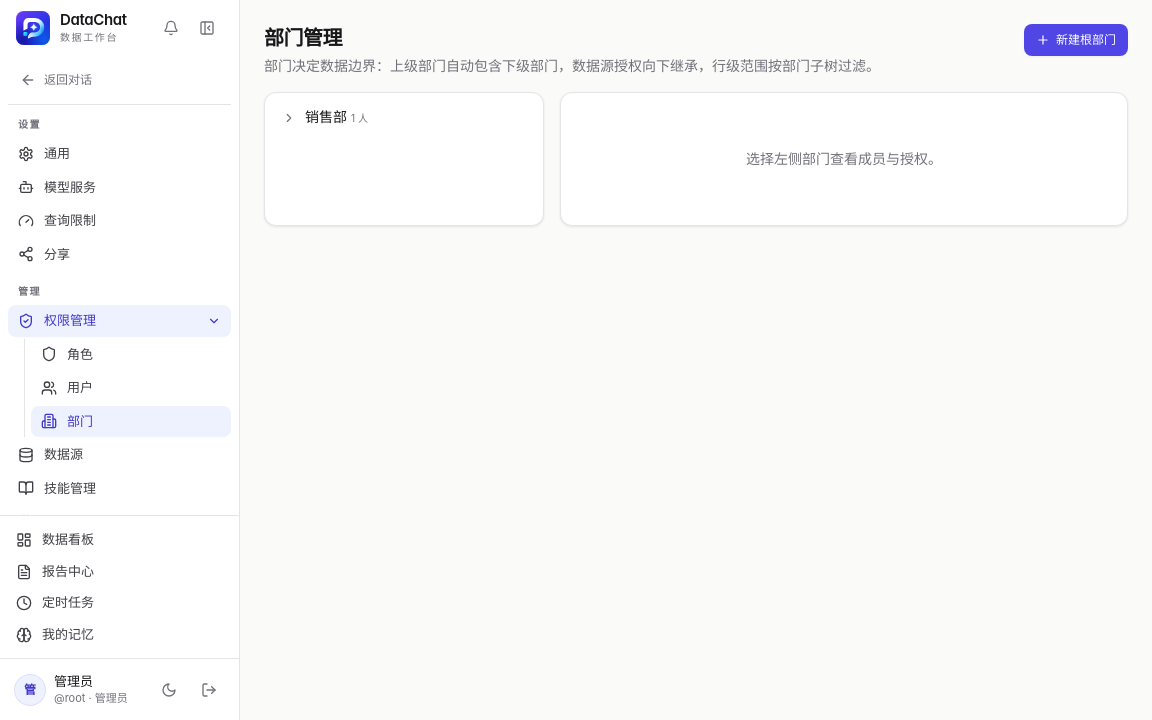
Test: DepartmentsPage › shows members and read-only inherited datasource grants for a department
Click the button "销售部1 人" at (404, 118), box [305,101,503,134]
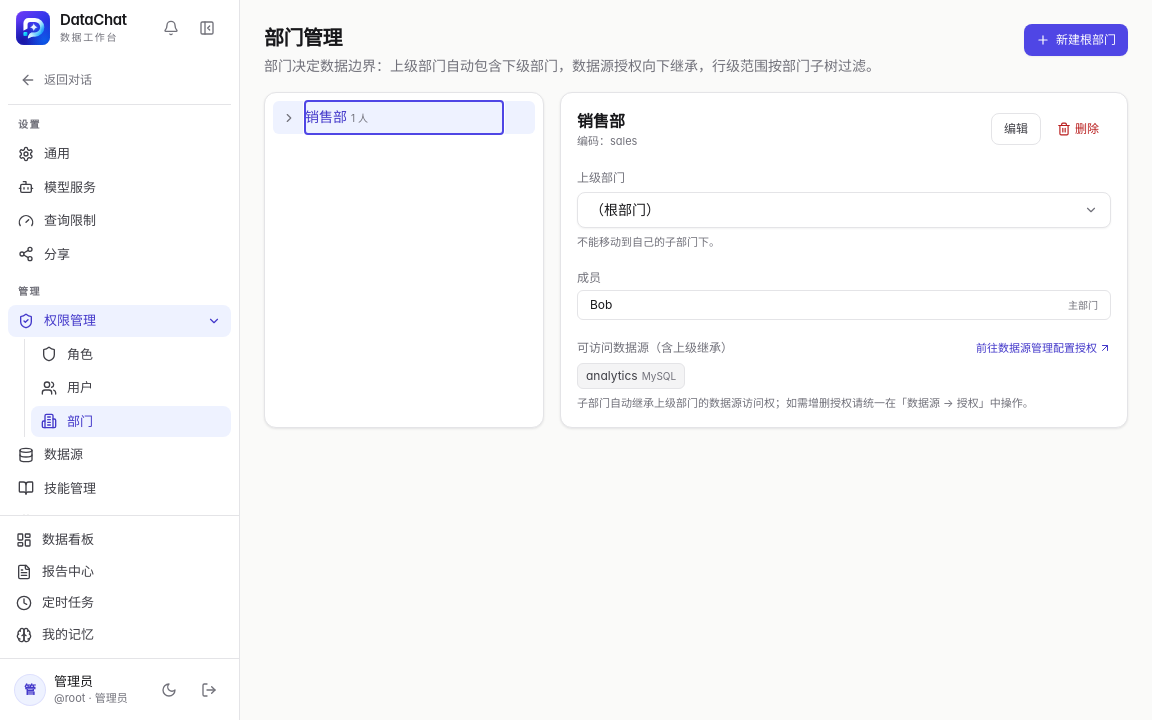
Check: the text "Bob" is shown, box [590,297,612,313]
Check: the text "analytics" is shown, box [586,368,638,384]
